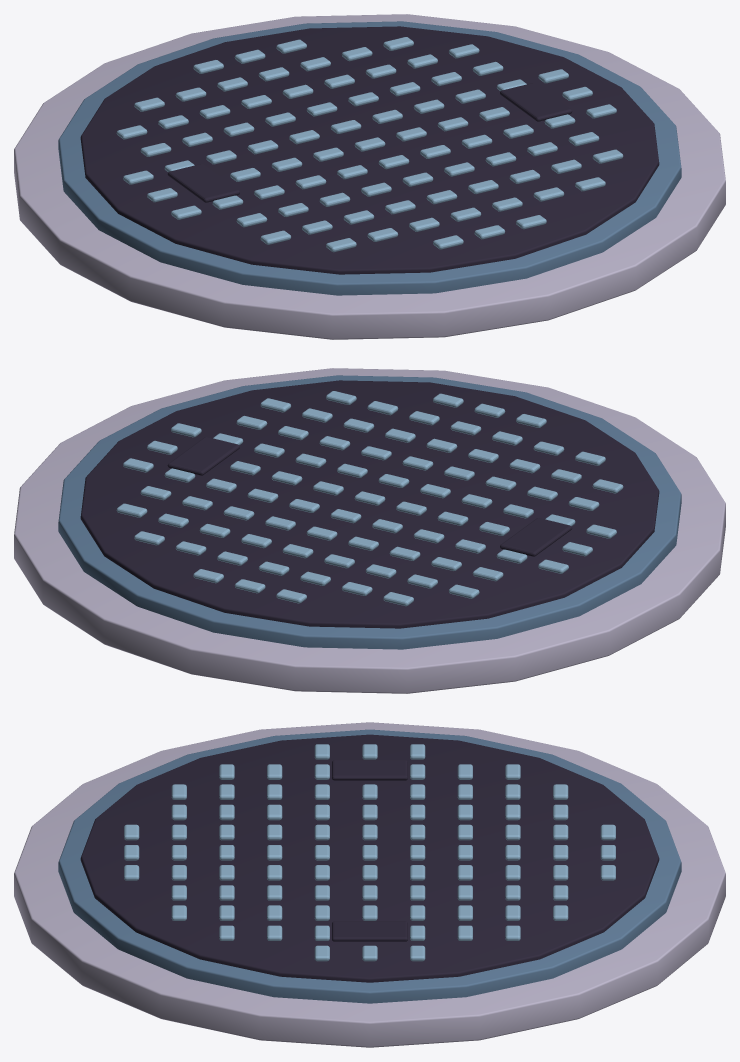
Rendered from manhole.glb.
3 renders of one model, top to bottom at view 1: azimuth 30°, elevation 25°; view 2: azimuth 150°, elevation 25°; view 3: azimuth 270°, elevation 25°, orthographic.
Visible parts, largest first — view 1: Recessed_lid, Stone_ring, Iron_rim, Lifting_slot.001, Lifting_slot; view 2: Recessed_lid, Stone_ring, Iron_rim, Lifting_slot.001, Lifting_slot; view 3: Recessed_lid, Stone_ring, Iron_rim, Lifting_slot, Lifting_slot.001.
Part boxes in pixels (x1=…): Recessed_lid: x1=80, y1=26, x2=659, y2=274; Stone_ring: x1=14, y1=14, x2=725, y2=339; Iron_rim: x1=58, y1=21, x2=681, y2=295; Lifting_slot.001: x1=500, y1=83, x2=572, y2=121; Lifting_slot: x1=167, y1=164, x2=239, y2=202; Recessed_lid: x1=80, y1=380, x2=659, y2=628; Stone_ring: x1=14, y1=368, x2=725, y2=693; Iron_rim: x1=58, y1=375, x2=681, y2=649; Lifting_slot.001: x1=167, y1=437, x2=239, y2=475; Lifting_slot: x1=500, y1=518, x2=572, y2=556; Recessed_lid: x1=80, y1=734, x2=659, y2=982; Stone_ring: x1=14, y1=722, x2=725, y2=1047; Iron_rim: x1=58, y1=729, x2=681, y2=1003; Lifting_slot: x1=332, y1=760, x2=407, y2=780; Lifting_slot.001: x1=332, y1=921, x2=407, y2=941.
Size of the model in its own units: 1.12 by 0.0855 by 1.12.
